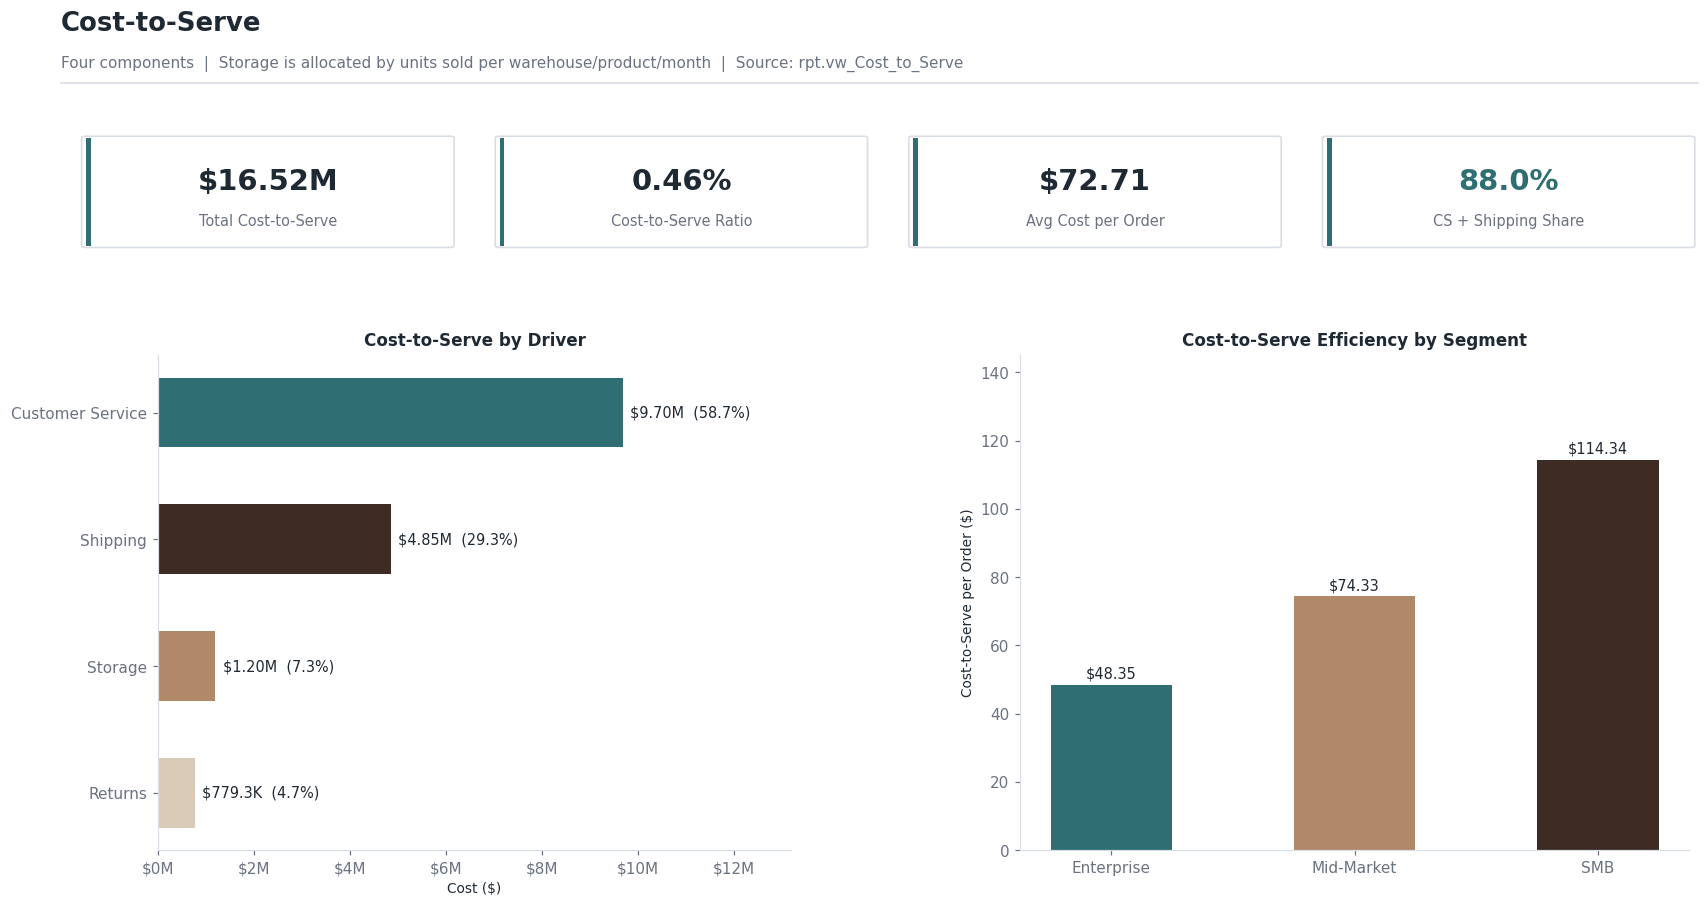

What the dashboard file says about the page in this screenshot:
{"tool":"powerbi","page":{"name":"Cost-to-Serve","canvas":[1480,920],"ordinal":2},"visuals":[{"type":"cardVisual","fields":{"Data":["rpt vw_Cost_to_Serve.Cost-to-Serve Ratio %"]},"box":[730.2,103.2,300,126.9],"z":0},{"type":"cardVisual","fields":{"Data":["rpt vw_Cost_to_Serve.Total Orders"]},"box":[408.5,101.8,300,126.7],"z":1000},{"type":"cardVisual","fields":{"Data":["rpt vw_Cost_to_Serve.Total Cost-to-Serve"]},"box":[1051.9,101.8,300,126.7],"z":2000},{"type":"cardVisual","fields":{"Data":["rpt vw_Cost_to_Serve.Average Cost-to-Serve per Order"]},"box":[85.3,100.3,300,126.7],"z":3000},{"type":"donutChart","title":"Cost-to-Serve by Driver","fields":{"Y":["rpt vw_Cost_to_Serve.Customer Service Cost","rpt vw_Cost_to_Serve.Returns Cost","rpt vw_Cost_to_Serve.Shipping Cost","rpt vw_Cost_to_Serve.Storage Cost"]},"box":[1051.7,485,396.2,379.9],"z":4000},{"type":"barChart","fields":{"Category":["rpt vw_Customer_Profitability.Customer_Segment"],"Y":["rpt vw_Cost_to_Serve.Total Cost-to-Serve"]},"box":[0,485,423.3,380],"z":5000},{"type":"scatterChart","title":"Cost Efficiency: Orders vs Cost per Order","fields":{"X":["rpt vw_Cost_to_Serve.Total Orders"],"Y":["rpt vw_Cost_to_Serve.Average Cost-to-Serve per Order"],"Series":["rpt vw_Customer_Profitability.Customer_Segment"]},"box":[436.7,485,585,378.3],"z":6000},{"type":"actionButton","box":[0,0,100.3,64.3],"z":7000},{"type":"slicer","fields":{"Values":["rpt vw_Customer_Profitability.Customer_Segment"]},"box":[140,293.3,535,125],"z":8000},{"type":"slicer","fields":{"Values":["rpt vw_Customer_Profitability.Customer_ID"]},"box":[780,293.3,391.7,125],"z":9000}]}

Visuals, with their boxes on the page's 1480x920 design canvas (x1, y1, x2, y2). These are canvas units, not pixel positions in the 1708x907 screenshot, which may show the page scaled, cropped or inside an application window:
cardVisual - rpt vw_Cost_to_Serve.Cost-to-Serve Ratio %: 730 103 1030 230
cardVisual - rpt vw_Cost_to_Serve.Total Orders: 408 102 708 228
cardVisual - rpt vw_Cost_to_Serve.Total Cost-to-Serve: 1052 102 1352 228
cardVisual - rpt vw_Cost_to_Serve.Average Cost-to-Serve per Order: 85 100 385 227
"Cost-to-Serve by Driver" donutChart: 1052 485 1448 865
barChart - rpt vw_Customer_Profitability.Customer_Segment x rpt vw_Cost_to_Serve.Total Cost-to-Serve: 0 485 423 865
"Cost Efficiency: Orders vs Cost per Order" scatterChart: 437 485 1022 863
actionButton: 0 0 100 64
slicer - rpt vw_Customer_Profitability.Customer_Segment: 140 293 675 418
slicer - rpt vw_Customer_Profitability.Customer_ID: 780 293 1172 418
